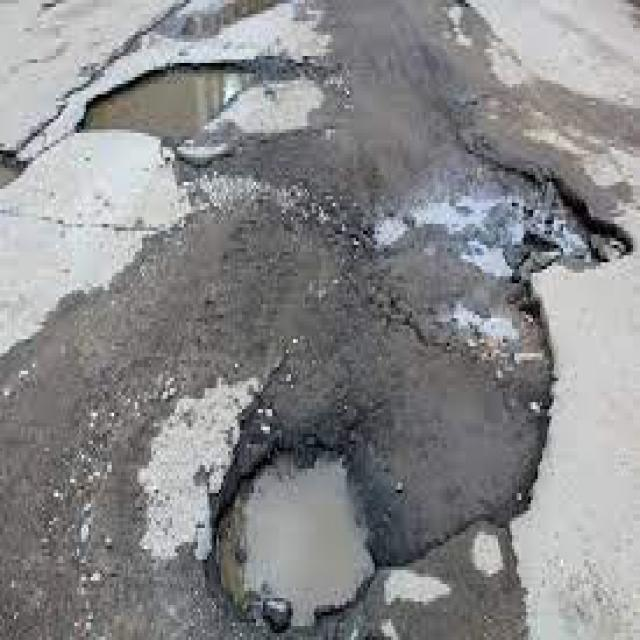Pothole: (74, 45, 633, 640)
